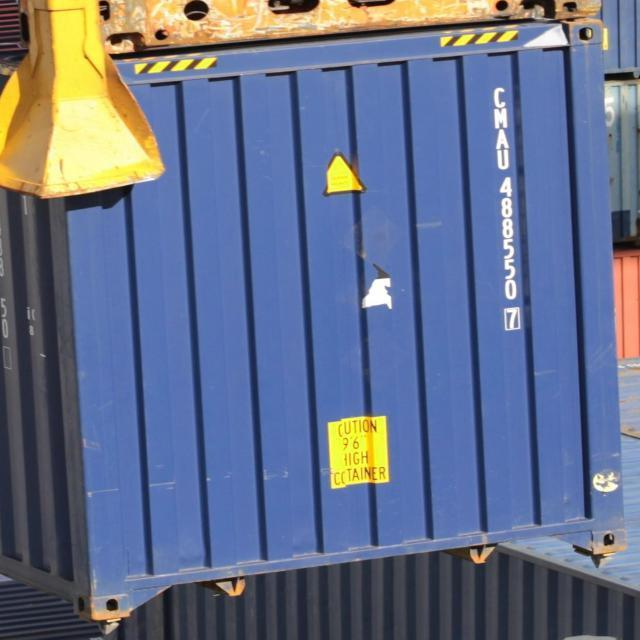container_number: (483, 78, 525, 336)
